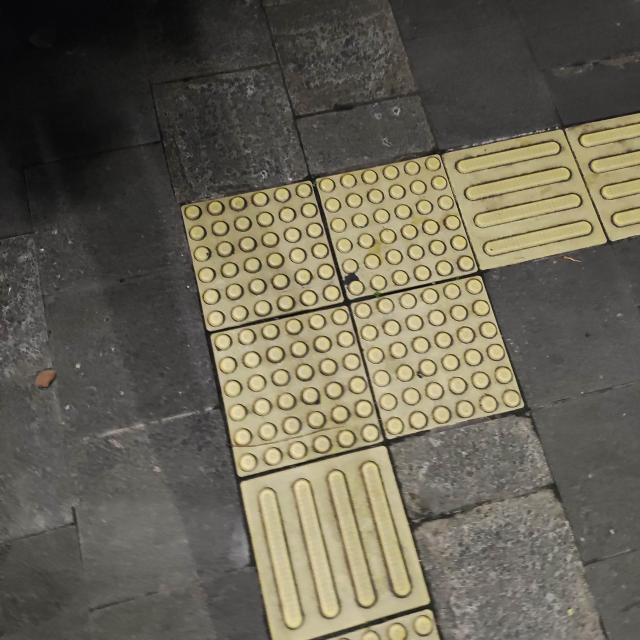kanan: (123, 110, 640, 557)
